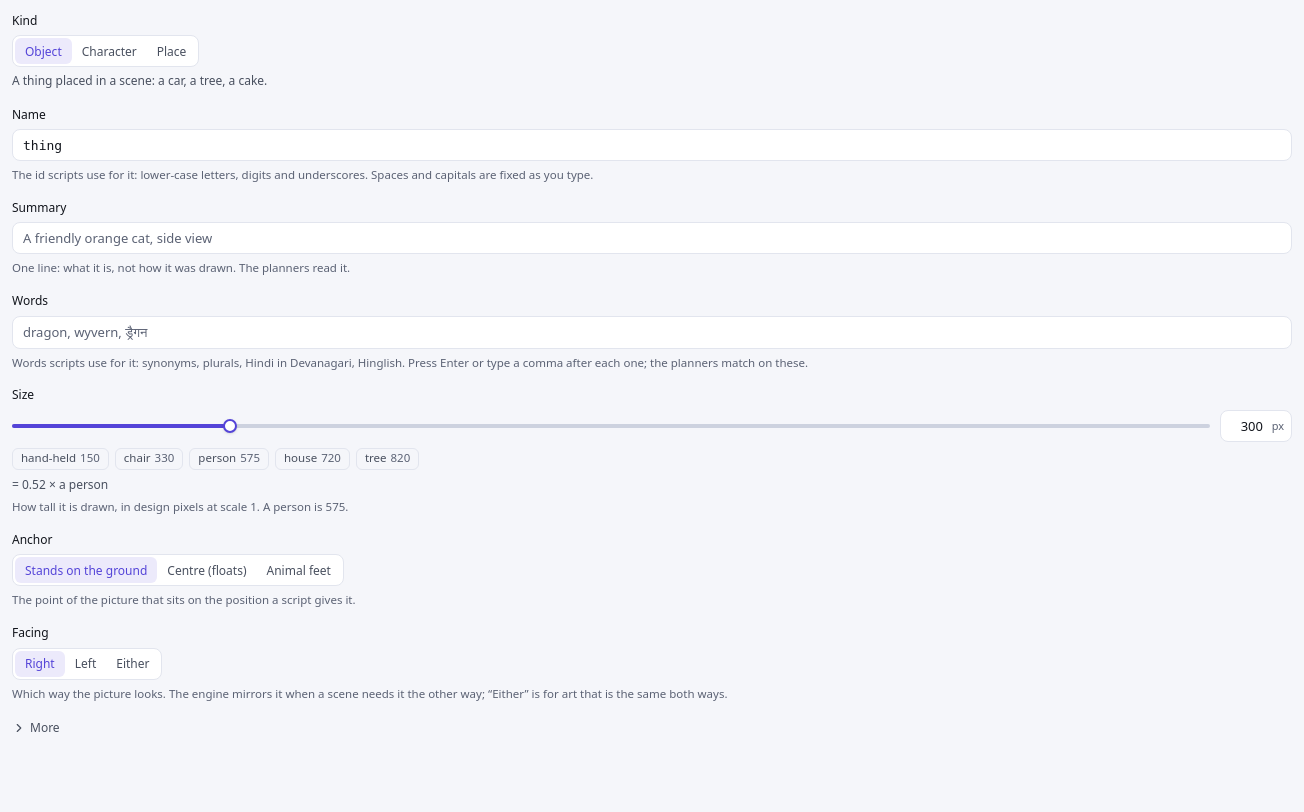
Test: the asset settings › fixes a name as it is typed: lower case, underscores, a letter first
The image size is (1304, 812).
Replace the text in the field labelled "Name" with "Fire Dragon!" at (652, 145), box top-left (12, 129), bottom-right (1292, 161)
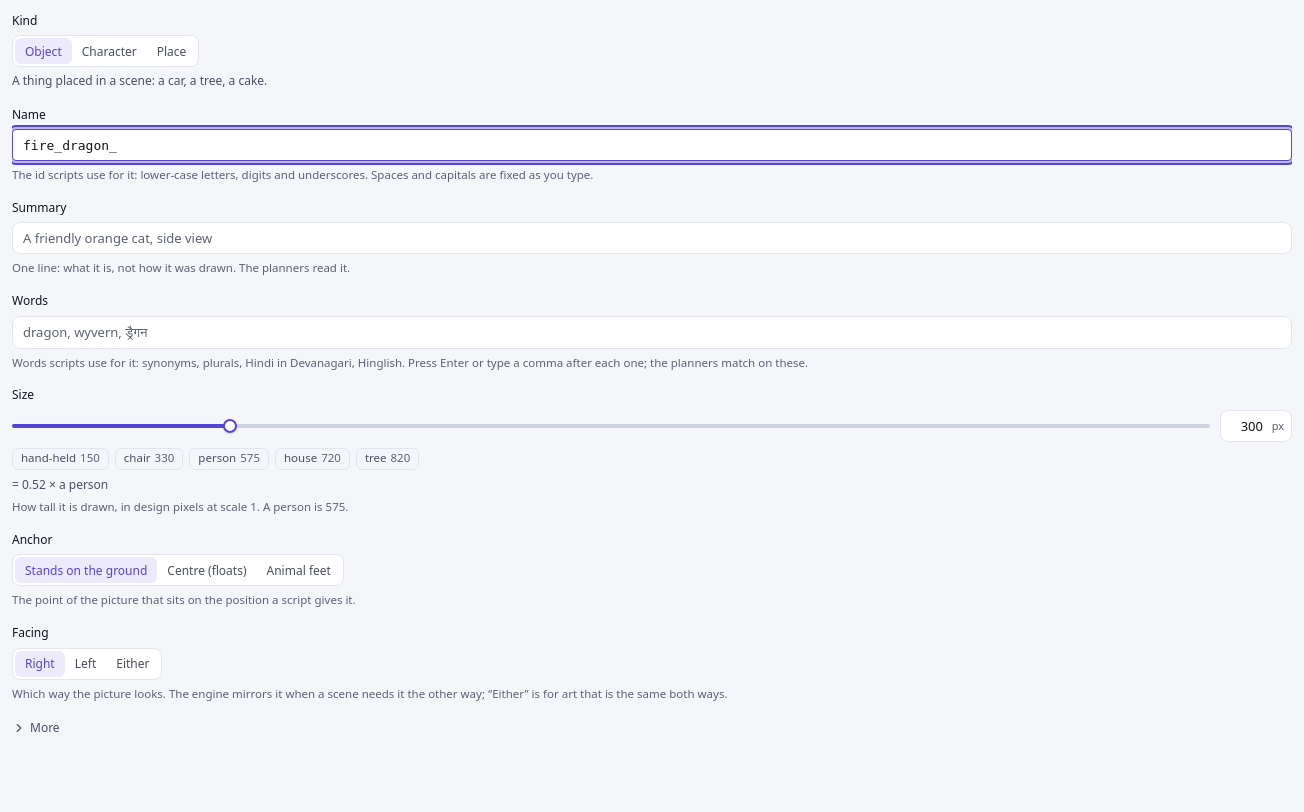
Now the field labelled "Name" holds "fire_dragon_"
Replace the text in the field labelled "Name" with "3 dogs" at (652, 145), box top-left (12, 129), bottom-right (1292, 161)
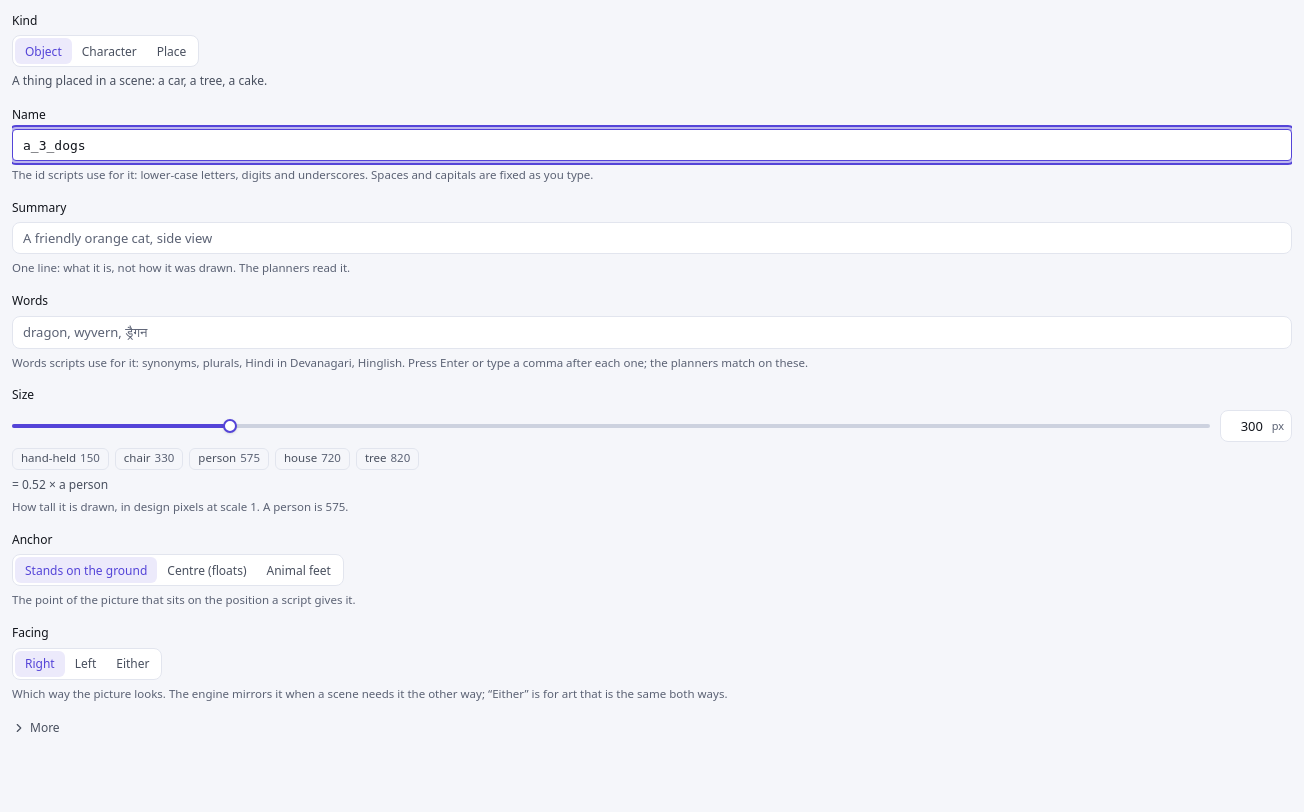
Now the field labelled "Name" holds "a_3_dogs"
Clear the field labelled "Name" at (652, 145), box top-left (12, 129), bottom-right (1292, 161)
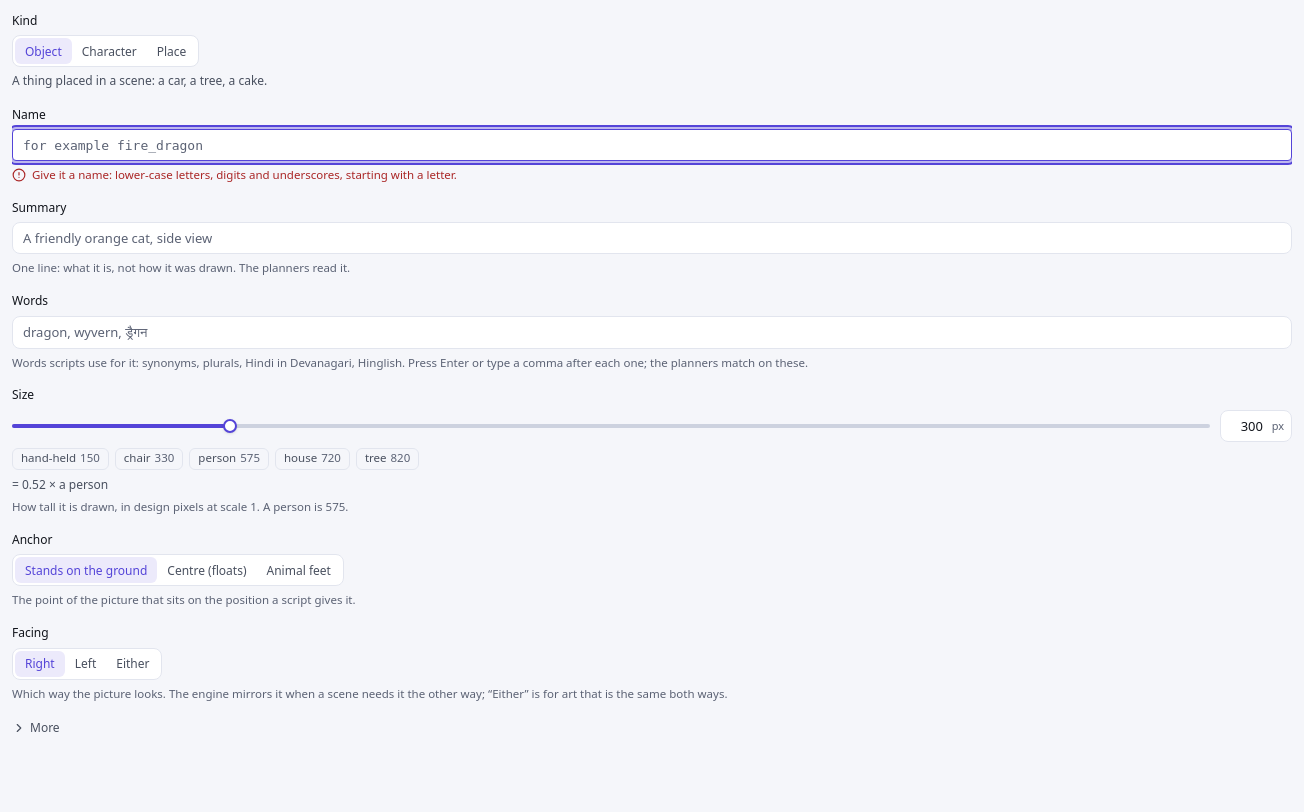
Now the message shows "Give it a name", box top-left (32, 167), bottom-right (457, 182)
